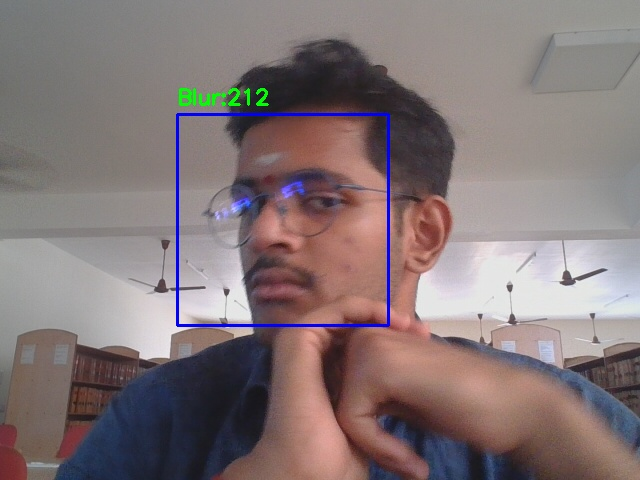real: (177, 114, 388, 325)
